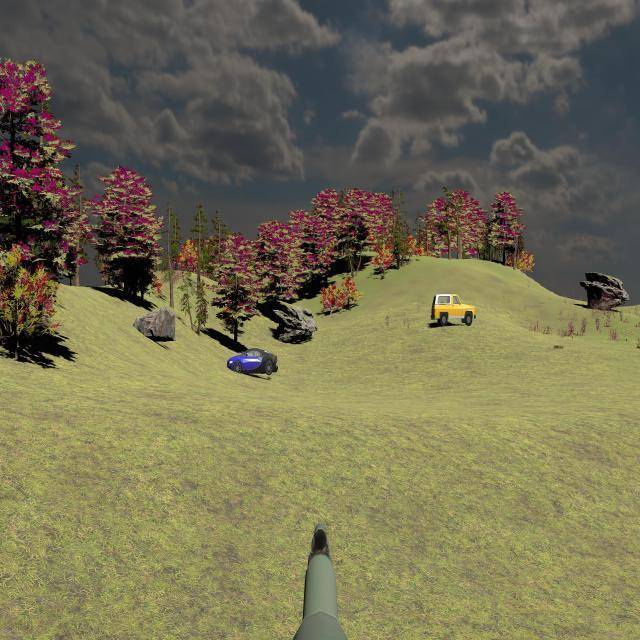car: (431, 293, 477, 327), (227, 346, 278, 376)
